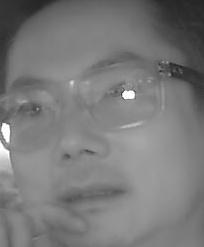eye: (17, 99, 53, 120)
glass: (76, 56, 162, 127), (2, 82, 62, 153)
mouth: (61, 177, 125, 212)
